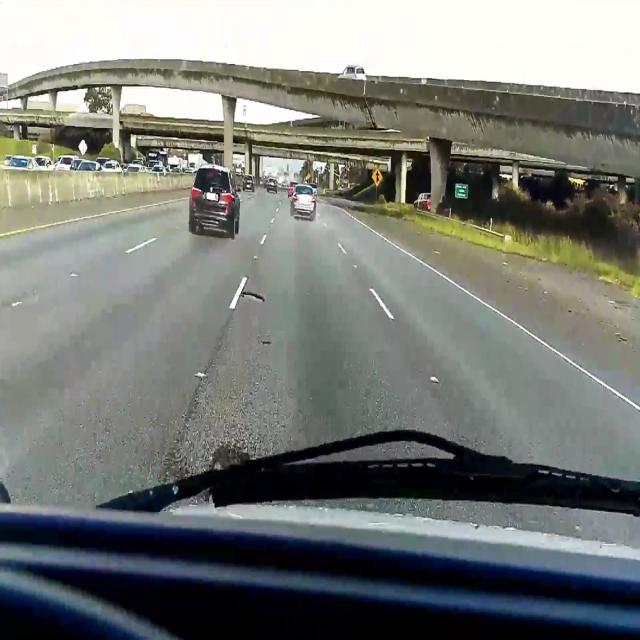Pothole: (236, 284, 265, 307)
